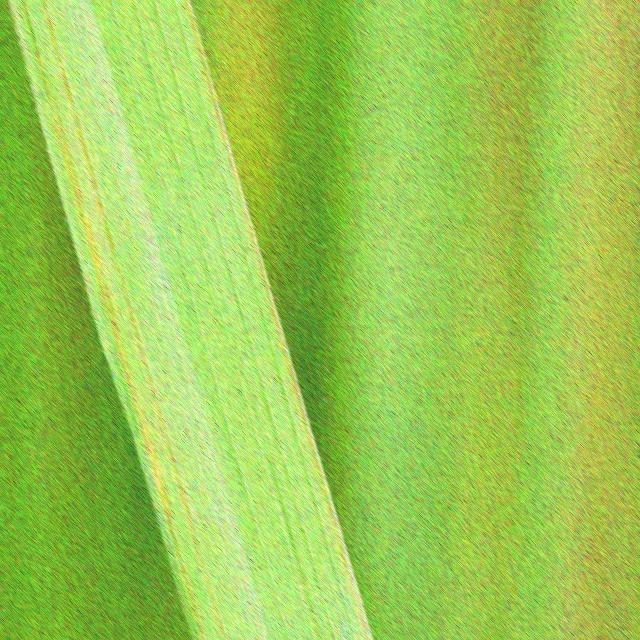BLS: (182, 0, 371, 640), (22, 0, 206, 640), (43, 0, 224, 640), (297, 566, 319, 640)
